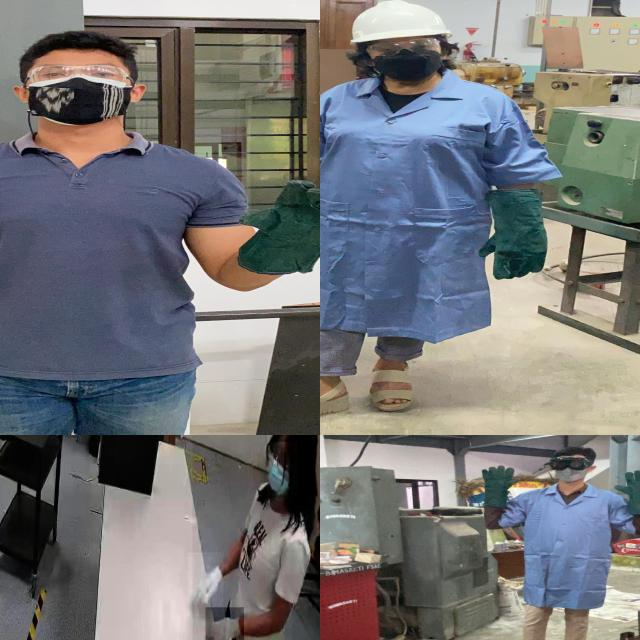face_mask: (19, 60, 138, 124), (360, 36, 451, 81), (267, 435, 298, 496), (549, 456, 589, 482)
glasses: (15, 62, 140, 89), (361, 37, 446, 59), (538, 455, 594, 473)
hand_glove: (238, 179, 320, 257), (472, 224, 560, 281), (188, 552, 224, 617), (205, 607, 244, 640), (478, 462, 519, 491), (611, 469, 640, 502), (603, 255, 606, 260)
head_helmet: (339, 0, 457, 47)
head_nohelmet: (16, 28, 140, 69), (550, 444, 598, 461)
person: (0, 27, 320, 435), (320, 0, 565, 432), (474, 442, 640, 640), (192, 435, 320, 640)
